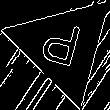P_S: (39, 17, 88, 76)
